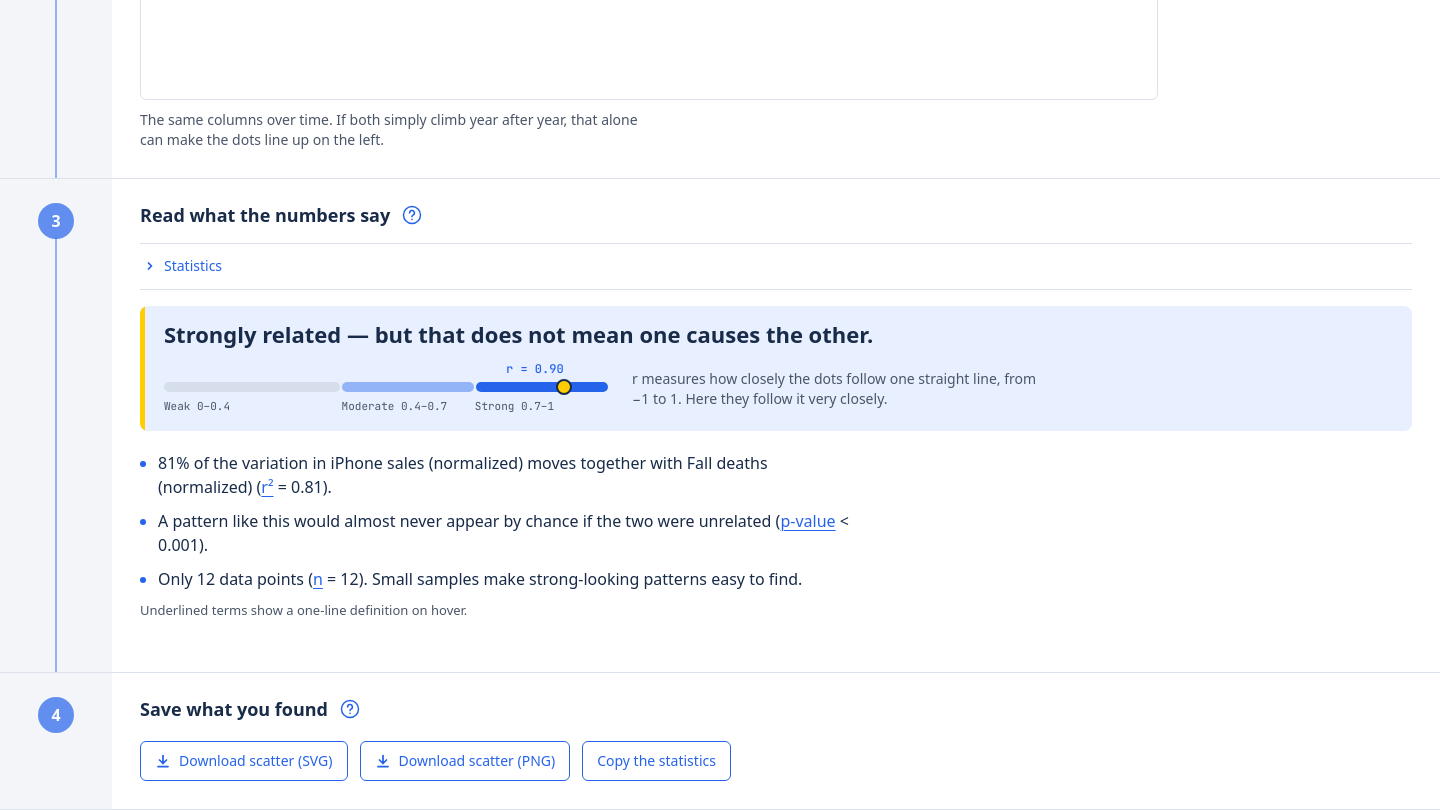
Test: failure paths › tells the user when copying to the clipboard is refused
This screenshot has width=1440, height=810.
(page scrolled)
Click the button "Copy the statistics" at (657, 762), box [582,742,731,782]
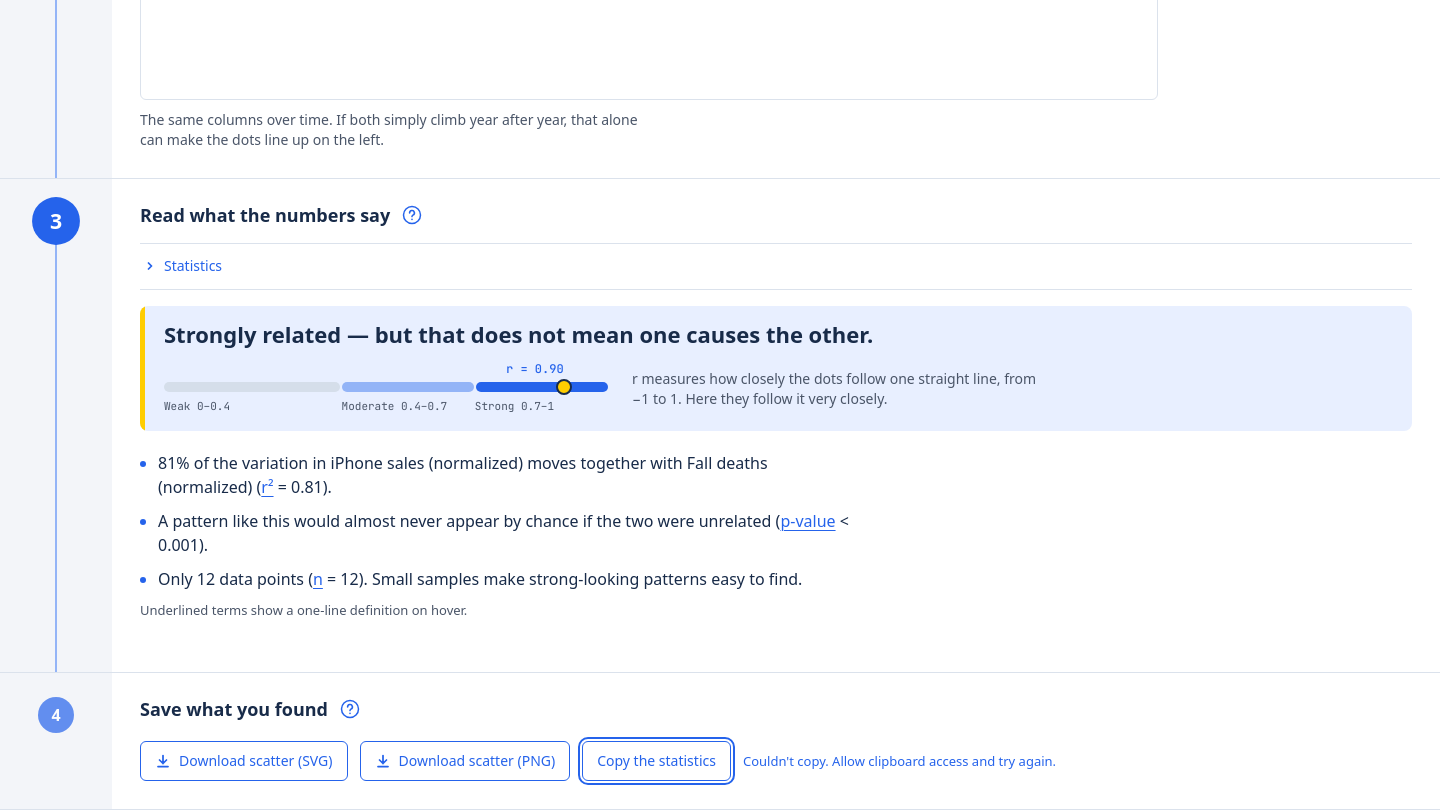
Expected: the text "Couldn't copy. Allow clipboard access and try again." is shown, [743,752,1056,771]
